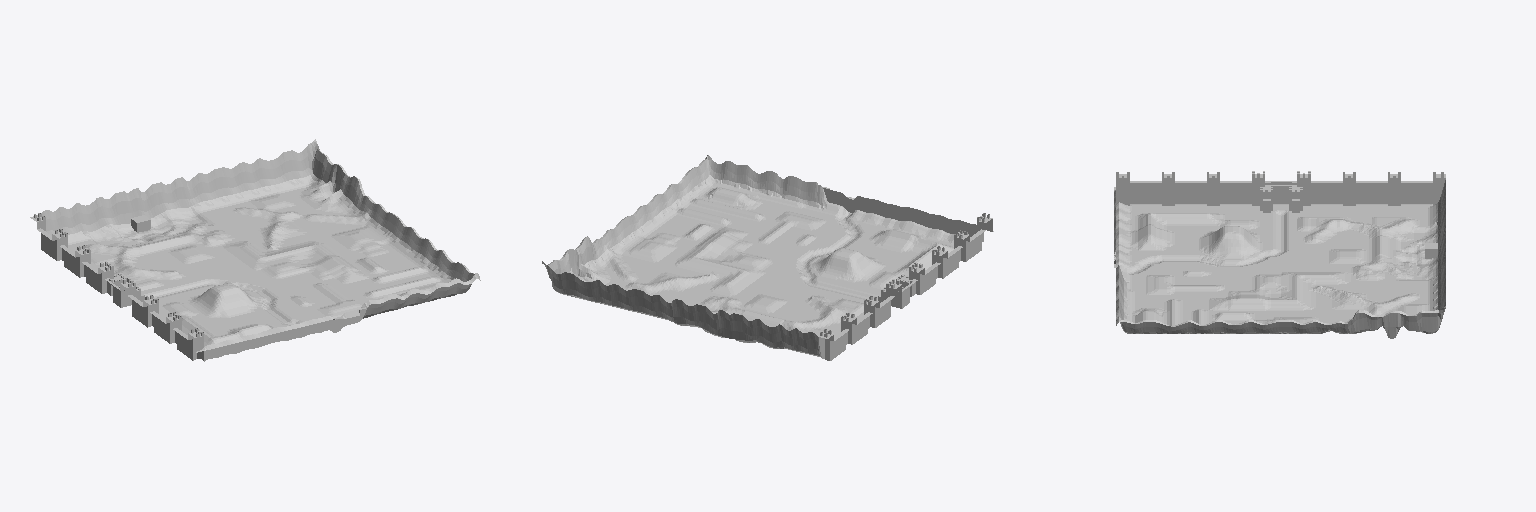
The model's file is drgnfld.obj.
The picture shows the model from 3 angles: view 1: azimuth 30°, elevation 25°; view 2: azimuth 150°, elevation 25°; view 3: azimuth 270°, elevation 25°; orthographic projection.
Visible parts, largest first — view 1: DrgnFld; view 2: DrgnFld; view 3: DrgnFld.
Part boxes in pixels (x1,y1,x2,y2): DrgnFld: (30,139,480,361); DrgnFld: (542,155,993,360); DrgnFld: (1114,171,1445,338).
Size of the model in its own units: 124 by 17.5 by 125.